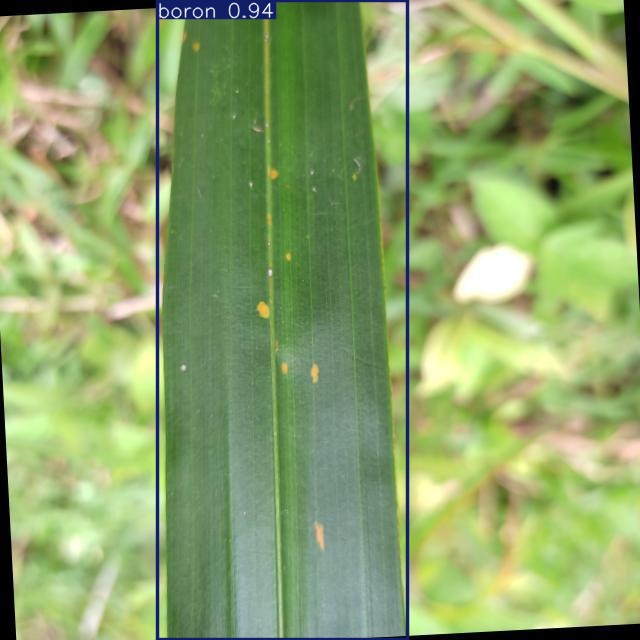nitrogen: (158, 0, 408, 640)
